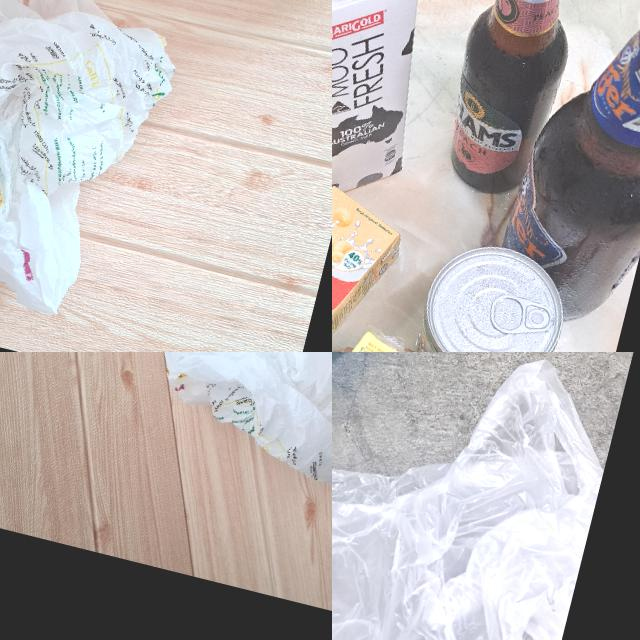aba de lata: (485, 290, 557, 343)
caixinha: (332, 0, 469, 225), (332, 158, 410, 352)
garrafa de vidro: (489, 0, 640, 336), (434, 0, 598, 204)
lata: (399, 233, 575, 352)
sacola plástica: (332, 352, 627, 640), (0, 0, 198, 326), (131, 352, 332, 510)
